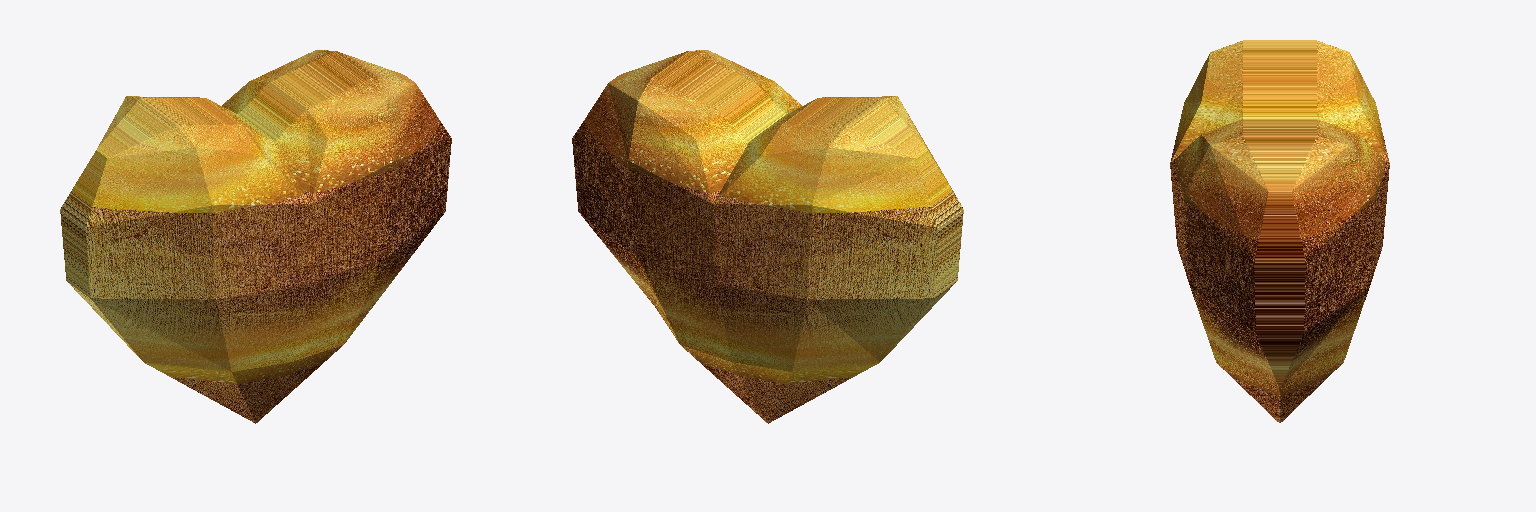
3 views of the same model, side by side, from view 1: azimuth 30°, elevation 25°; view 2: azimuth 150°, elevation 25°; view 3: azimuth 270°, elevation 25° (orthographic).
Parts seen in each view (by area): view 1: Heart; view 2: Heart; view 3: Heart.
Part boxes in pixels (left/top/right/bottom): Heart: left=60, top=50, right=451, bottom=423; Heart: left=572, top=50, right=963, bottom=423; Heart: left=1170, top=40, right=1389, bottom=422.
Size of the model in its own units: 15.53 by 13.61 by 8.08.
1 materials, 1 textured.